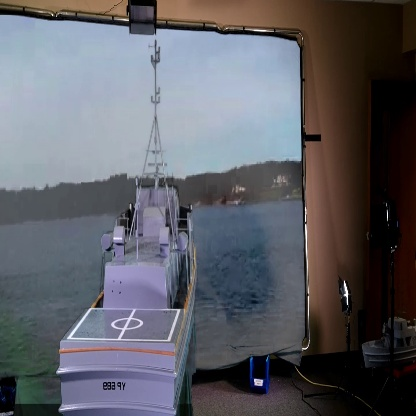YP689: (54, 52, 197, 416)
